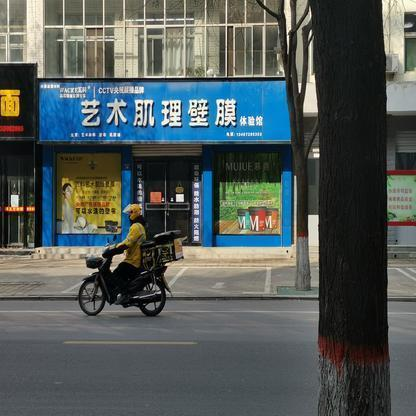target: (76, 203, 190, 320)
